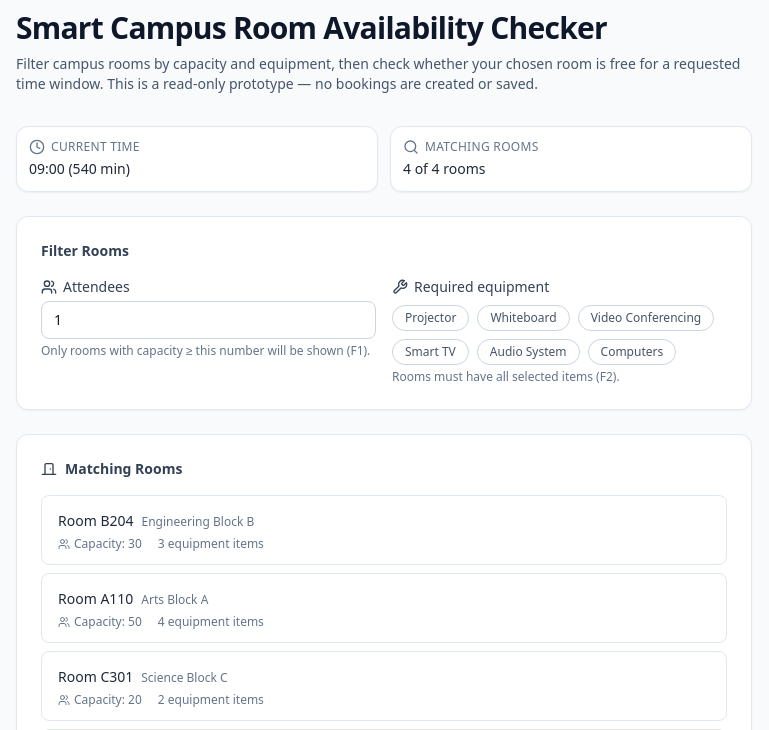
Scenario: F4 — empty state when no rooms match › shows the empty-state message when attendee count exceeds all room capacities
Step 1. Replace the text in the number field labelled "Attendees" with "100" → x=208, y=320, box [41,301,376,339]
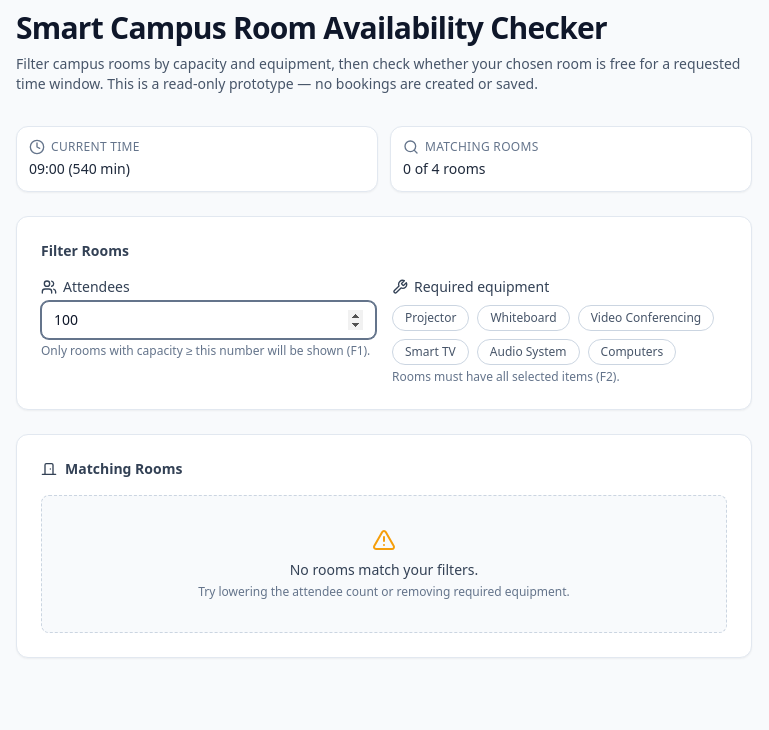
Check: the text "No rooms match your filters." is shown, box [290,560,478,580]
